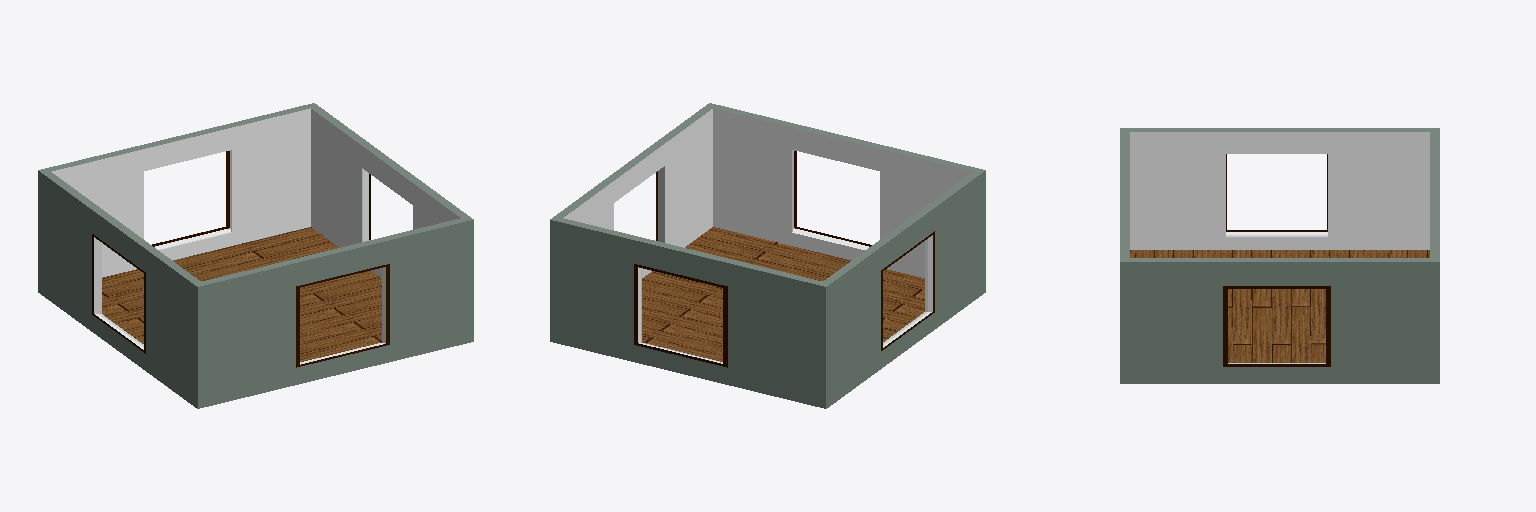
3 views of the same model, side by side, from view 1: azimuth 30°, elevation 25°; view 2: azimuth 150°, elevation 25°; view 3: azimuth 270°, elevation 25° (orthographic).
Parts seen in each view (by area): view 1: Cube.002; view 2: Cube.002; view 3: Cube.002.
Part boxes in pixels (left/top/right/bottom): Cube.002: left=38, top=103, right=473, bottom=408; Cube.002: left=550, top=103, right=985, bottom=408; Cube.002: left=1120, top=128, right=1439, bottom=383.
Size of the model in its own units: 16.95 by 7.16 by 16.95.
1 materials, 1 textured.